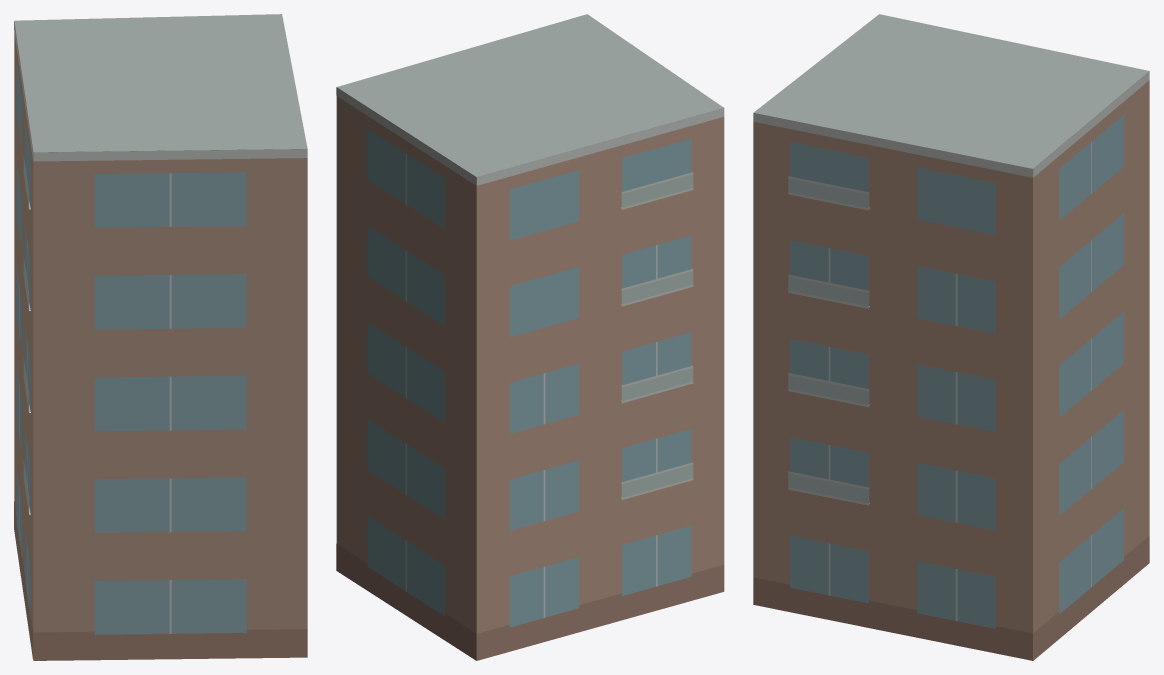
File: survey-upis-32597753.glb
3 renders of one model, left to right at view 1: azimuth 30°, elevation 25°; view 2: azimuth 150°, elevation 25°; view 3: azimuth 270°, elevation 25°, orthographic. The views are drawn at different scales.
Parts seen in each view (by area): view 1: survey-upis-32597753.tmp; view 2: survey-upis-32597753.tmp; view 3: survey-upis-32597753.tmp.
Boxes of the visible parts, bbox=[...] form: survey-upis-32597753.tmp: bbox=[14, 14, 307, 660]; survey-upis-32597753.tmp: bbox=[336, 14, 724, 660]; survey-upis-32597753.tmp: bbox=[753, 14, 1149, 660].
Size of the model in its own units: 9.13 by 13.5 by 9.87.
